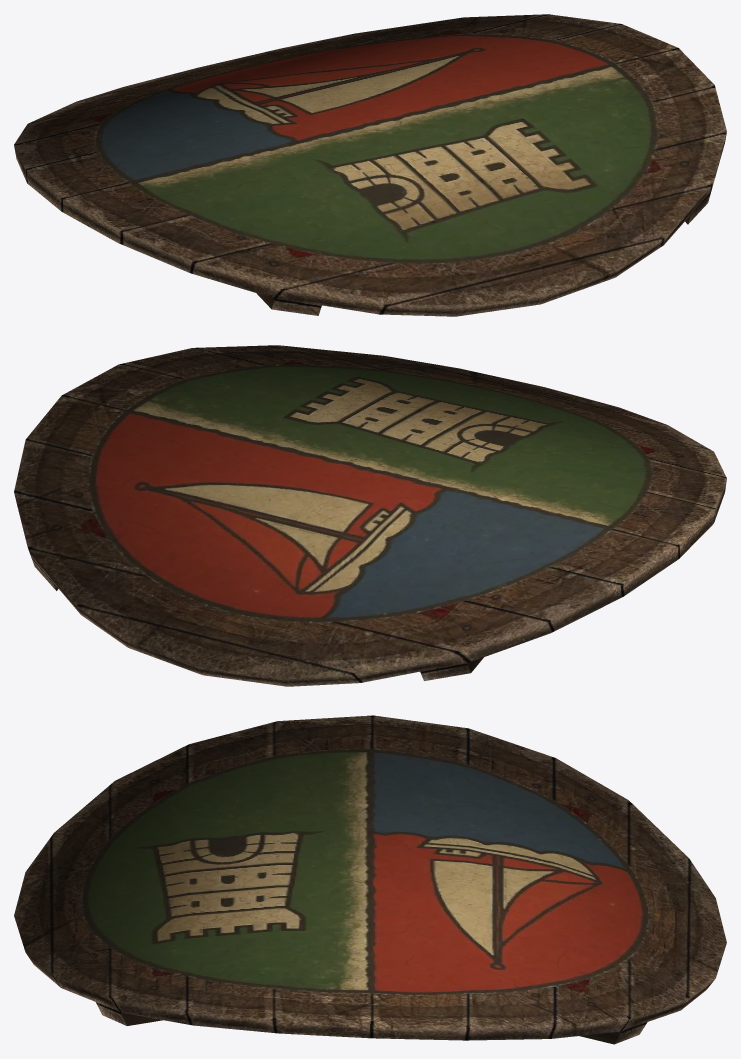
Rendered from ITSH_SHIELD_WYNDHAM.glb.
The picture shows the model from 3 angles, top to bottom: view 1: azimuth 30°, elevation 25°; view 2: azimuth 150°, elevation 25°; view 3: azimuth 270°, elevation 25°; orthographic projection. The views are drawn at different scales.
Parts seen in each view (by area): view 1: Mesh; view 2: Mesh; view 3: Mesh.
Boxes of the visible parts, <box> form: Mesh: <box>14,14,726,316</box>; Mesh: <box>14,345,726,686</box>; Mesh: <box>14,715,726,1044</box>.
Size of the model in its own units: 0.752 by 0.0952 by 0.7322.
Materials: 1 (1 with a texture image).
